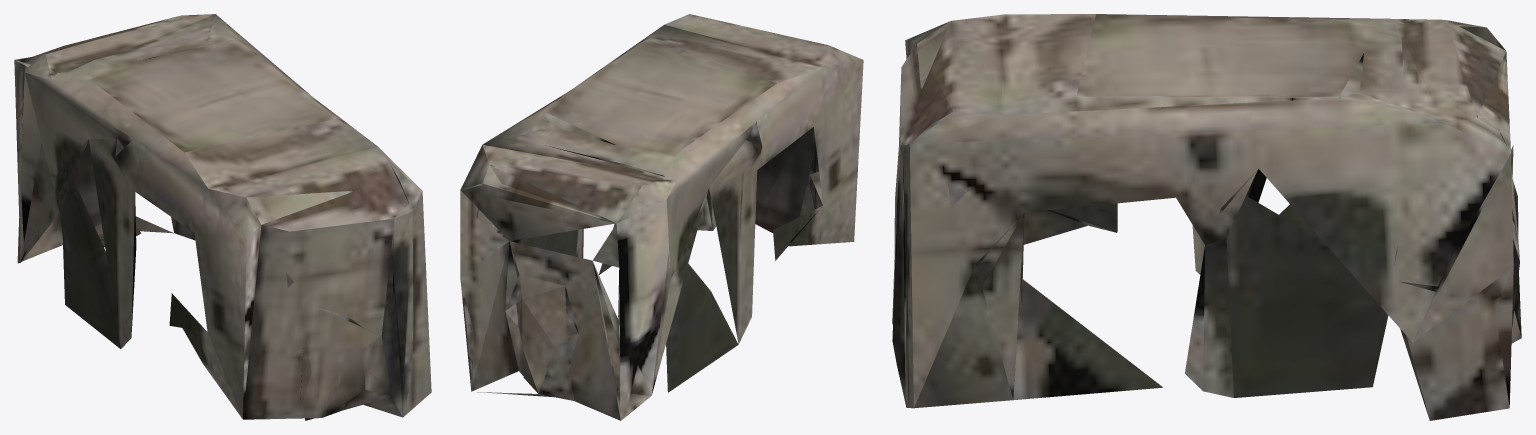
Rendered from barracks_1278772040_lod1.glb.
3 views of the same model, side by side, from view 1: azimuth 30°, elevation 25°; view 2: azimuth 150°, elevation 25°; view 3: azimuth 270°, elevation 25° (orthographic). The views are drawn at different scales.
Size of the model in its own units: 6.72 by 7.66 by 13.92.
Materials: 1 (1 with a texture image).
